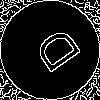D: (25, 25, 83, 81)
